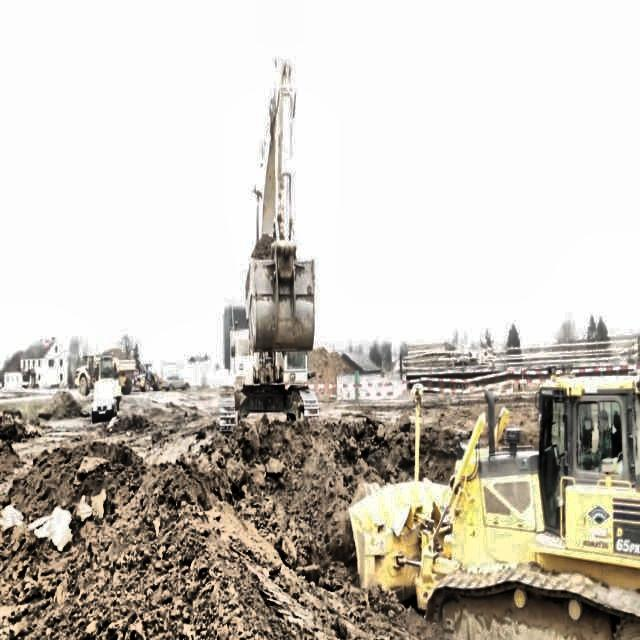bull_dozer/loader/grader: (353, 364, 640, 626), (136, 362, 163, 390)
dump_truck: (74, 346, 136, 394)
excavator: (218, 58, 318, 434)
